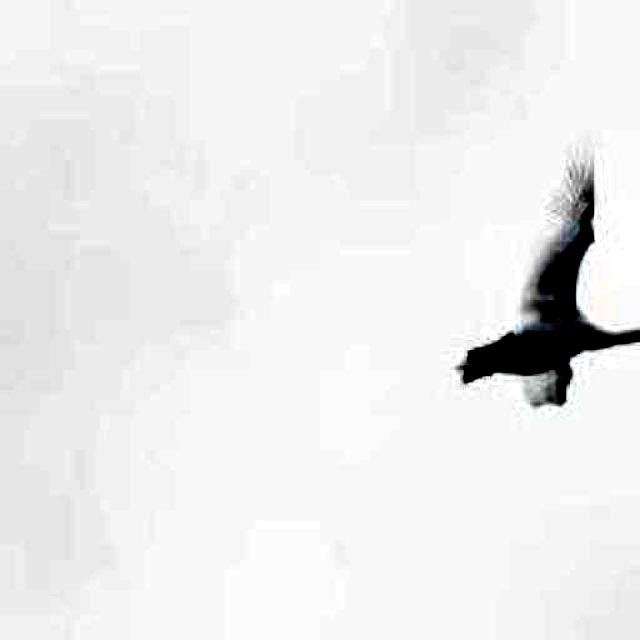airplane: (460, 138, 640, 410)
